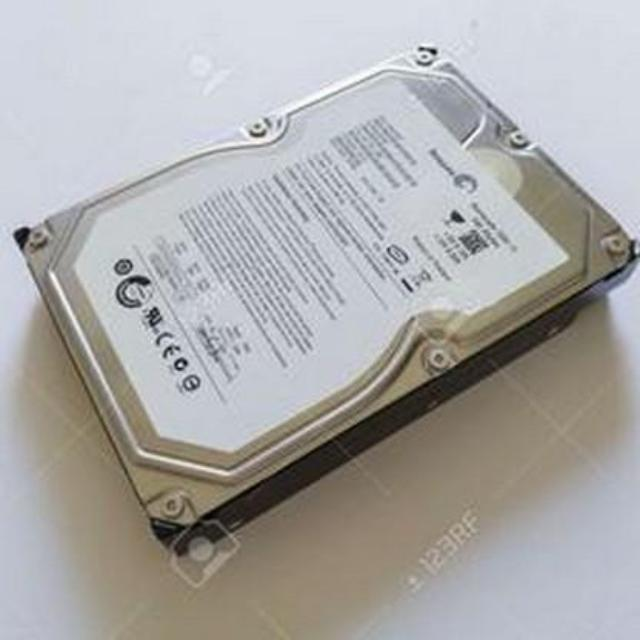DISK: (12, 34, 640, 542)
